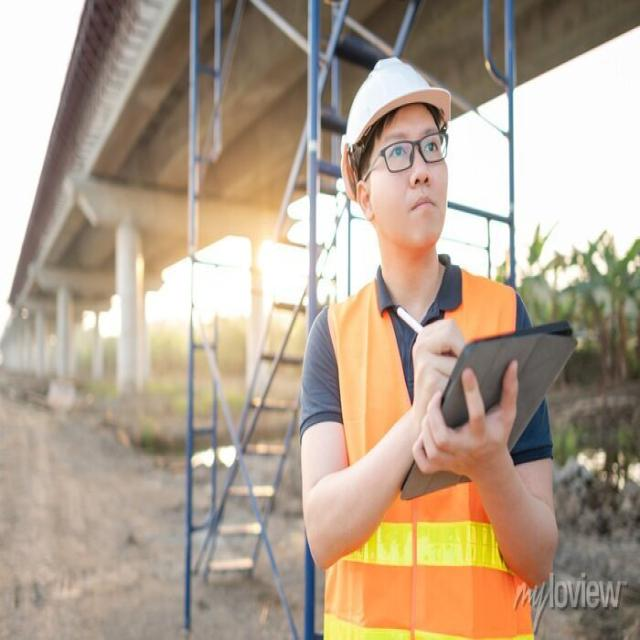goggles: (349, 128, 454, 181)
helmet: (335, 37, 454, 191)
vest: (321, 268, 538, 640)
